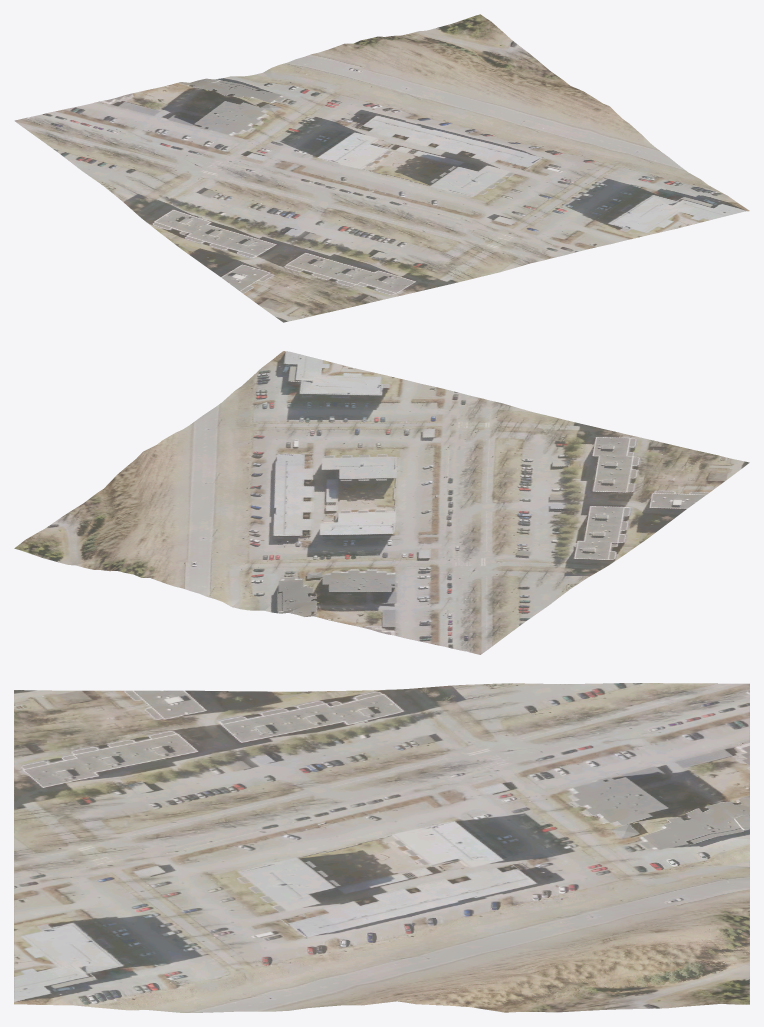
File: CM_Terrain_24492302_6814879.fbx
3 renders of one model, top to bottom at view 1: azimuth 30°, elevation 25°; view 2: azimuth 150°, elevation 25°; view 3: azimuth 270°, elevation 25°, orthographic. The views are drawn at different scales.
Visible parts, largest first — view 1: CM_Terrain_24492302_6814879_LOD0; view 2: CM_Terrain_24492302_6814879_LOD0; view 3: CM_Terrain_24492302_6814879_LOD0.
Boxes of the visible parts, x1,y1,x2,y2 form: CM_Terrain_24492302_6814879_LOD0: (14,14,749,322); CM_Terrain_24492302_6814879_LOD0: (14,351,749,654); CM_Terrain_24492302_6814879_LOD0: (14,683,749,1012).
Size of what is drawn, in the model's own units: 205 by 5.9 by 205.
